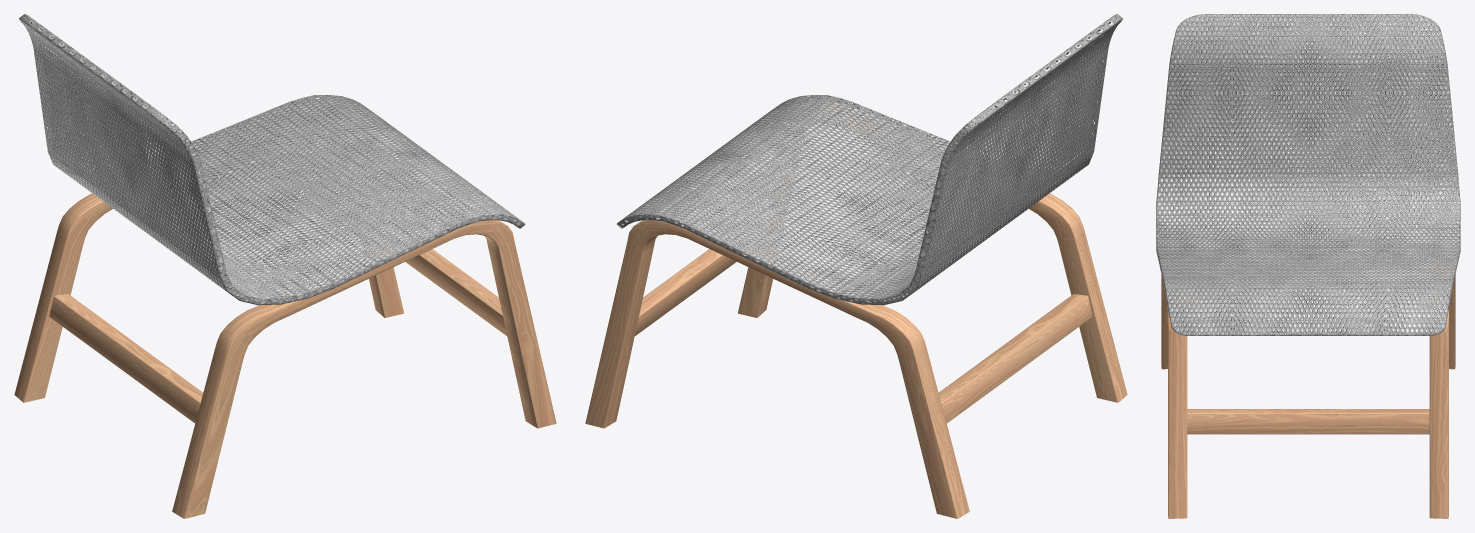
Rendered from Chair_4.fbx.
3 views of the same model, side by side, from view 1: azimuth 30°, elevation 25°; view 2: azimuth 150°, elevation 25°; view 3: azimuth 270°, elevation 25° (orthographic). The views are drawn at different scales.
Parts seen in each view (by area): view 1: Chair_4; view 2: Chair_4; view 3: Chair_4.
Part boxes in pixels (x1=…): Chair_4: x1=14, y1=14, x2=556, y2=518; Chair_4: x1=585, y1=14, x2=1127, y2=518; Chair_4: x1=1156, y1=14, x2=1460, y2=518.
Bounding box in the file's own units: 75.57 × 73.39 × 59.
Materials: 1 (1 with a texture image).
